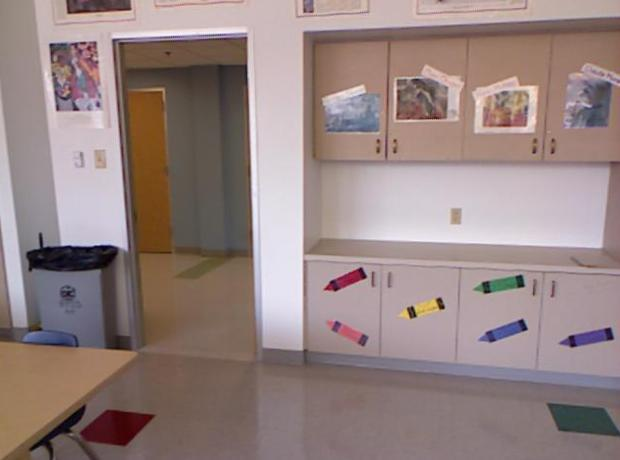Bote de Basura: (30, 241, 118, 368)
